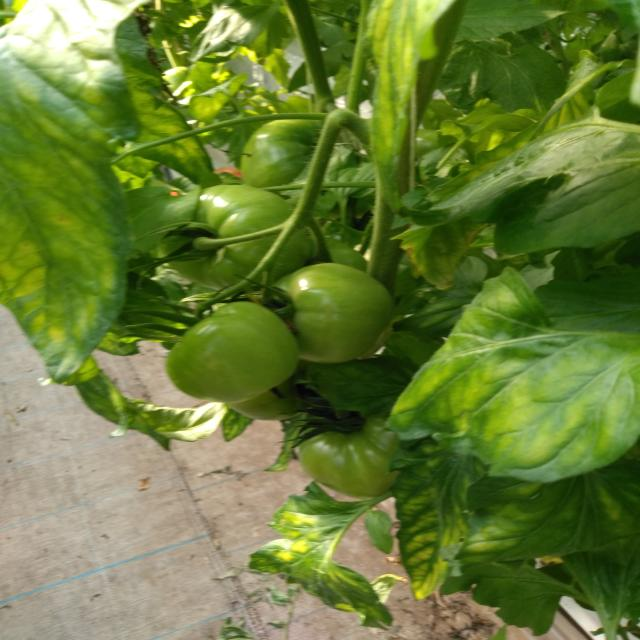yesil: (178, 102, 361, 424)
